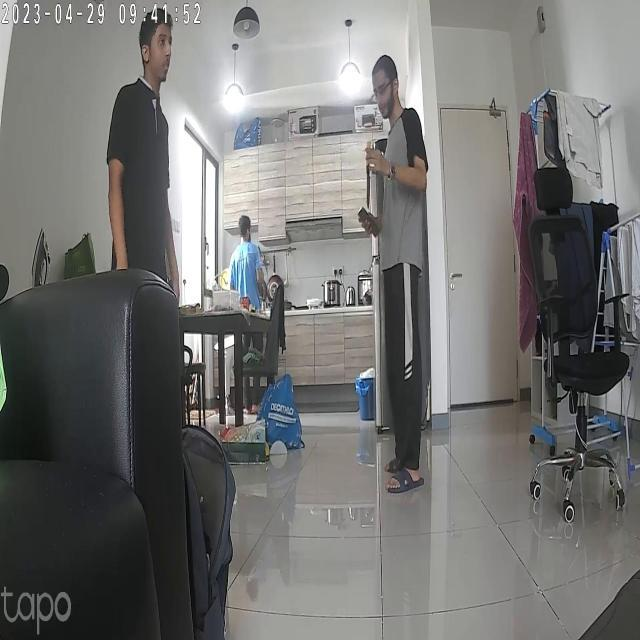Knife: (358, 138, 385, 224)
